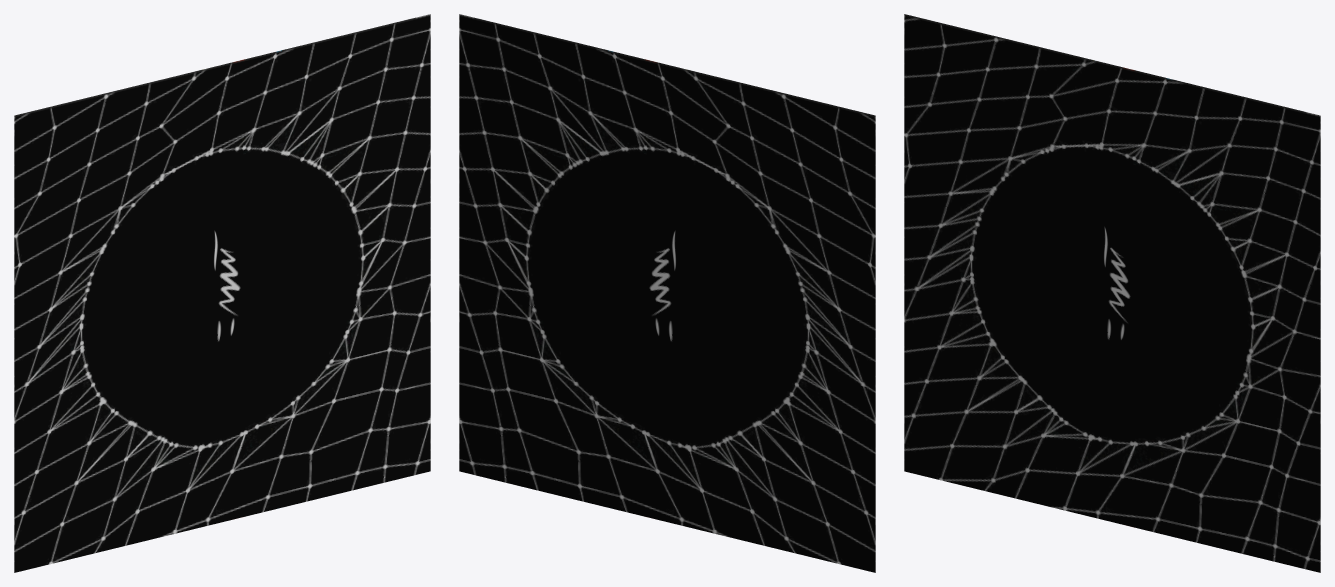
File: IAMWE_PICTURE_2.glb
The picture shows the model from 3 angles, left to right: view 1: azimuth 30°, elevation 25°; view 2: azimuth 150°, elevation 25°; view 3: azimuth 330°, elevation 25°; orthographic projection.
Visible parts, largest first — view 1: Plane.1; view 2: Plane.1; view 3: Plane.1.
Boxes of the visible parts, x1,y1,x2,y2 form: Plane.1: [14, 14, 430, 572]; Plane.1: [459, 14, 875, 572]; Plane.1: [904, 14, 1320, 572].
Size of the model in its own units: 0.983 by 1.03 by 0.
1 material, 1 textured.
